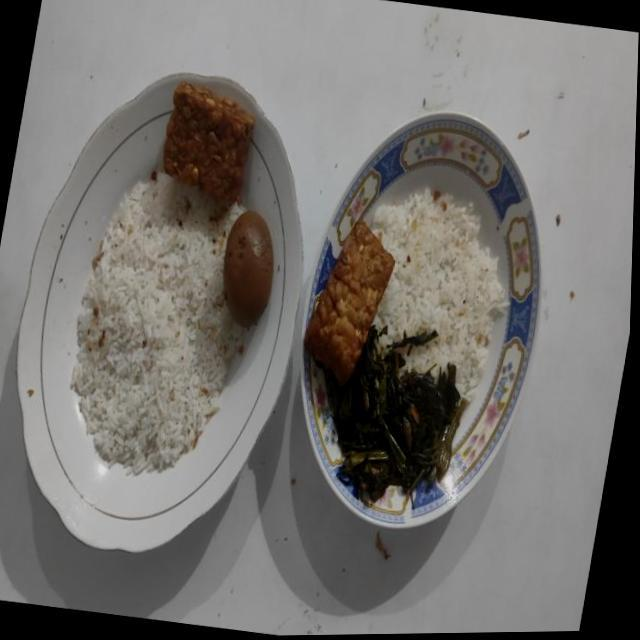nasi_putih: (71, 175, 246, 475), (372, 188, 508, 400)
tempe_goreng: (304, 221, 394, 385), (163, 82, 254, 202)
tumis_kangkung: (324, 326, 466, 502)
